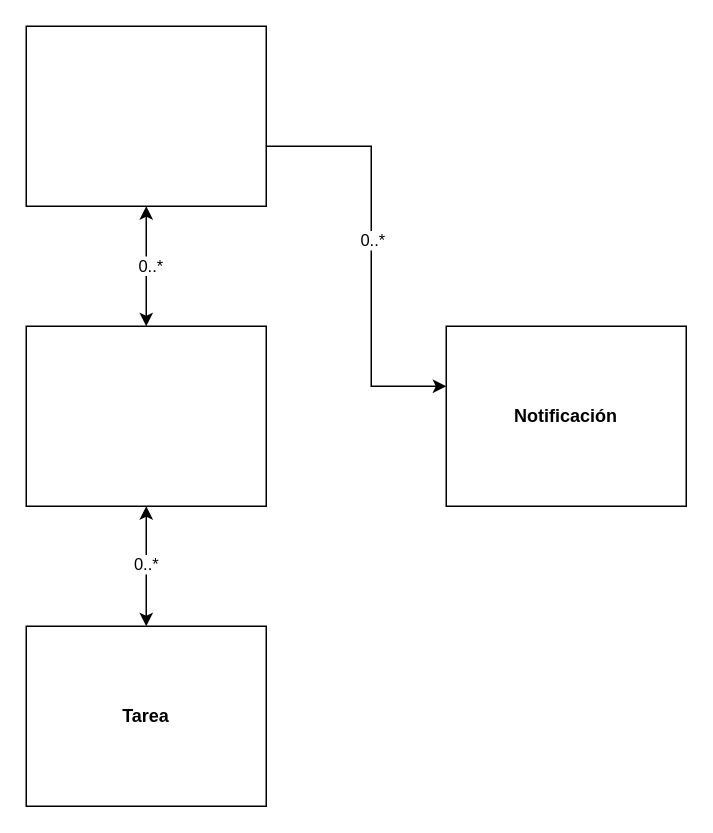
This 713x833 diagram has some shape labels left out. The shapes that lost their labels are listed below. From the top down, each one's centre as x and y in pixels, then its label:
At pixel 145 115: "User".
At pixel 145 415: "Proyecto".
